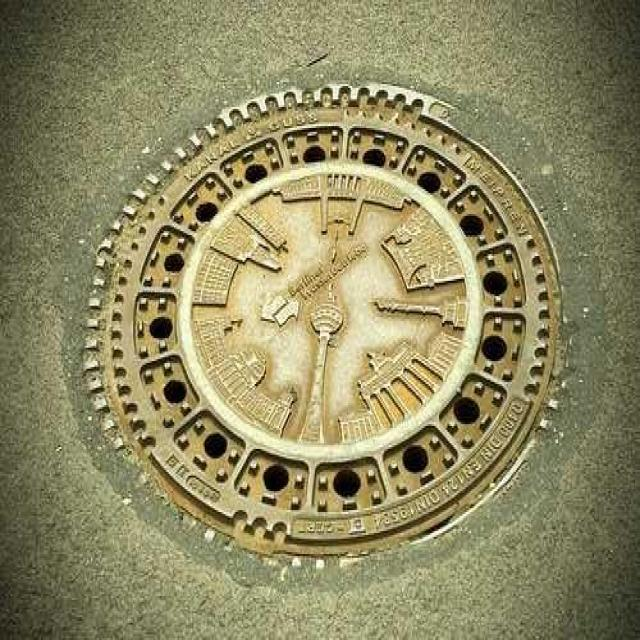manhole: (84, 86, 560, 553)
